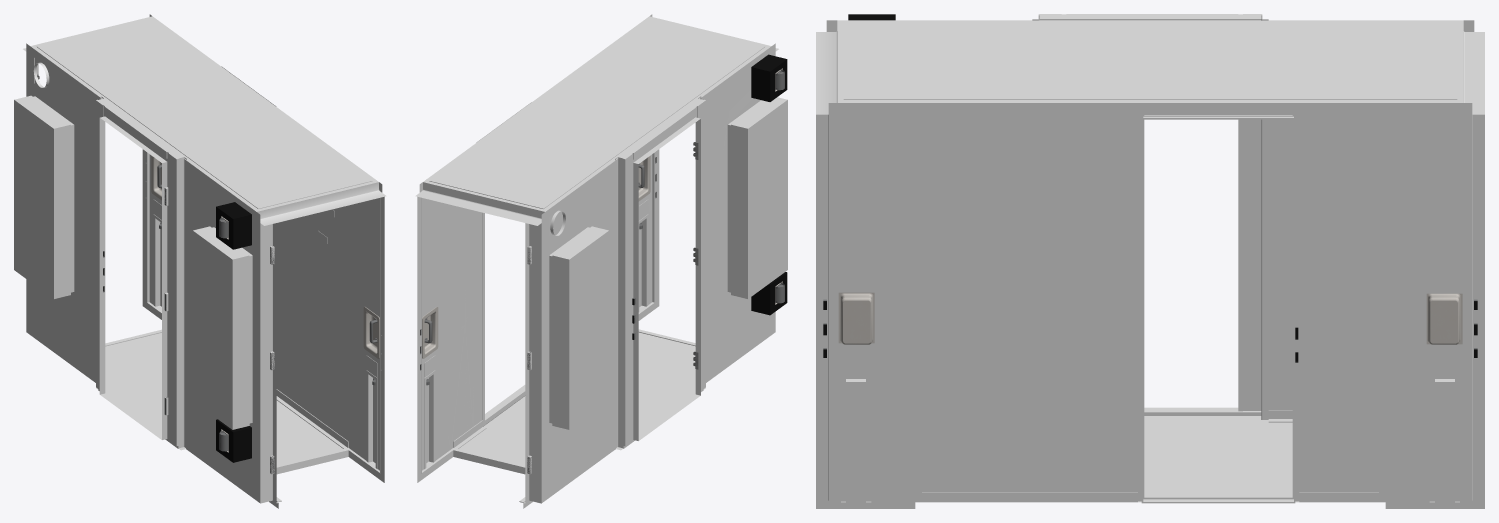
The model's file is Vagon_body_inner_tambur_back_01.fbx.
The picture shows the model from 3 angles, left to right: view 1: azimuth 30°, elevation 25°; view 2: azimuth 150°, elevation 25°; view 3: azimuth 270°, elevation 25°; orthographic projection. The views are drawn at different scales.
Parts seen in each view (by area): view 1: Vagon_body_inner_tambur_back_01, Vagon_body_inner_tambur_back_dop.001, Vagon_body_inner_tambur_back_dop; view 2: Vagon_body_inner_tambur_back_01, Vagon_body_inner_tambur_back_dop.001, Vagon_body_inner_tambur_back_dop; view 3: Vagon_body_inner_tambur_back_01.
Boxes of the visible parts, x1,y1,x2,y2 form: Vagon_body_inner_tambur_back_01: (14,14,386,508); Vagon_body_inner_tambur_back_dop.001: (216,202,251,249); Vagon_body_inner_tambur_back_dop: (216,419,251,462); Vagon_body_inner_tambur_back_01: (415,14,787,508); Vagon_body_inner_tambur_back_dop.001: (751,54,787,101); Vagon_body_inner_tambur_back_dop: (751,272,787,315); Vagon_body_inner_tambur_back_01: (816,14,1484,508).
Size of the model in its own units: 115 by 210 by 311.
